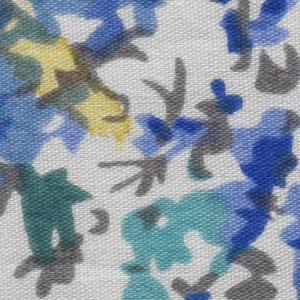Oil Stain: (1, 1, 136, 156)
